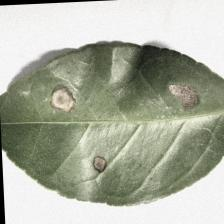canker: (39, 75, 203, 197)
